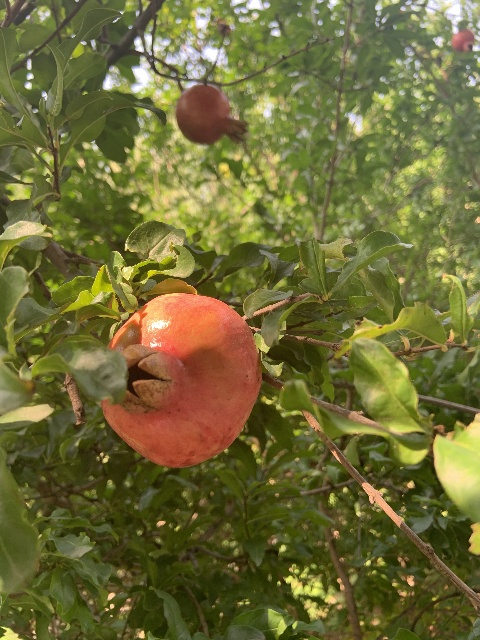ripe: (101, 291, 262, 468), (174, 84, 248, 145), (451, 30, 475, 52)
